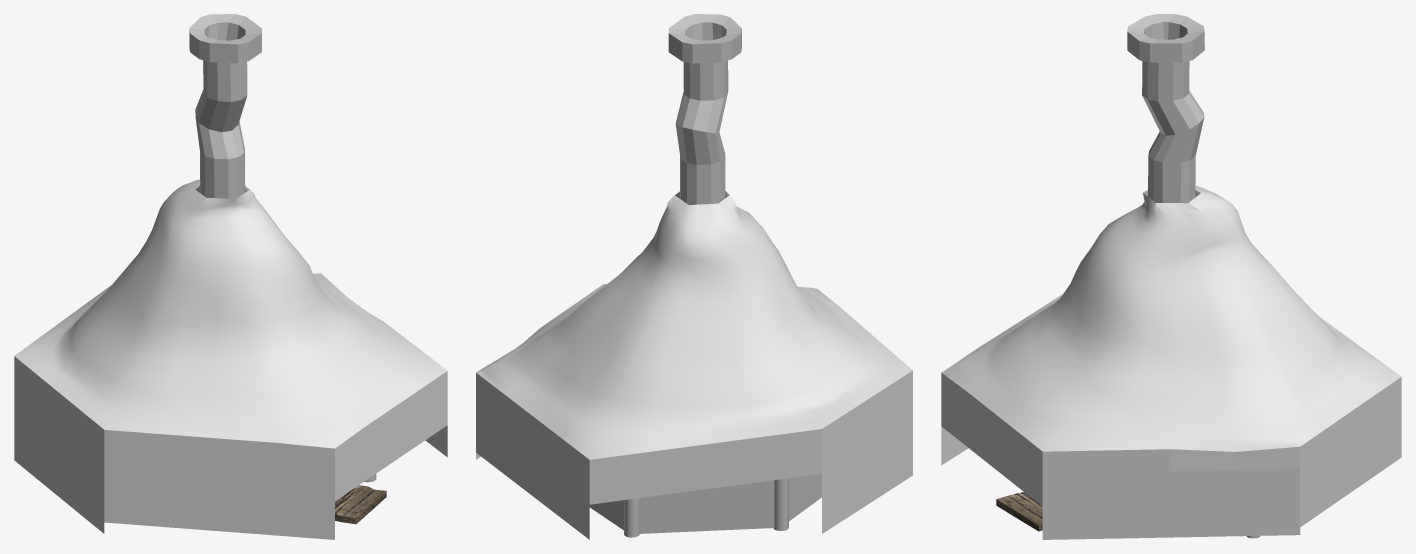
File: baseHouse.fbx
3 renders of one model, left to right at view 1: azimuth 30°, elevation 25°; view 2: azimuth 150°, elevation 25°; view 3: azimuth 270°, elevation 25°, orthographic.
Parts seen in each view (by area): view 1: Plane, Plane.001, Plane.002; view 2: Plane, Plane.001, Circle.006, Circle.009; view 3: Plane, Plane.001, Plane.002.
Part boxes in pixels (x1=…): Plane: x1=14, y1=179, x2=447, y2=539; Plane.001: x1=189, y1=14, x2=261, y2=198; Plane.002: x1=335, y1=485, x2=386, y2=524; Plane: x1=476, y1=191, x2=912, y2=539; Plane.001: x1=668, y1=14, x2=741, y2=204; Circle.006: x1=773, y1=478, x2=788, y2=530; Circle.009: x1=624, y1=498, x2=639, y2=537; Plane: x1=941, y1=185, x2=1401, y2=539; Plane.001: x1=1127, y1=14, x2=1204, y2=203; Plane.002: x1=996, y1=492, x2=1042, y2=531.
Size of the model in its own units: 3361 by 4418 by 4051.
